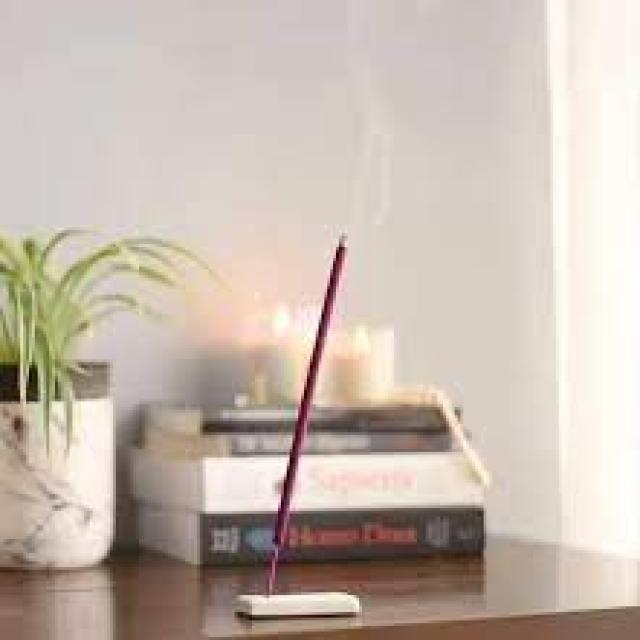Agarbatti: (252, 235, 400, 588)
